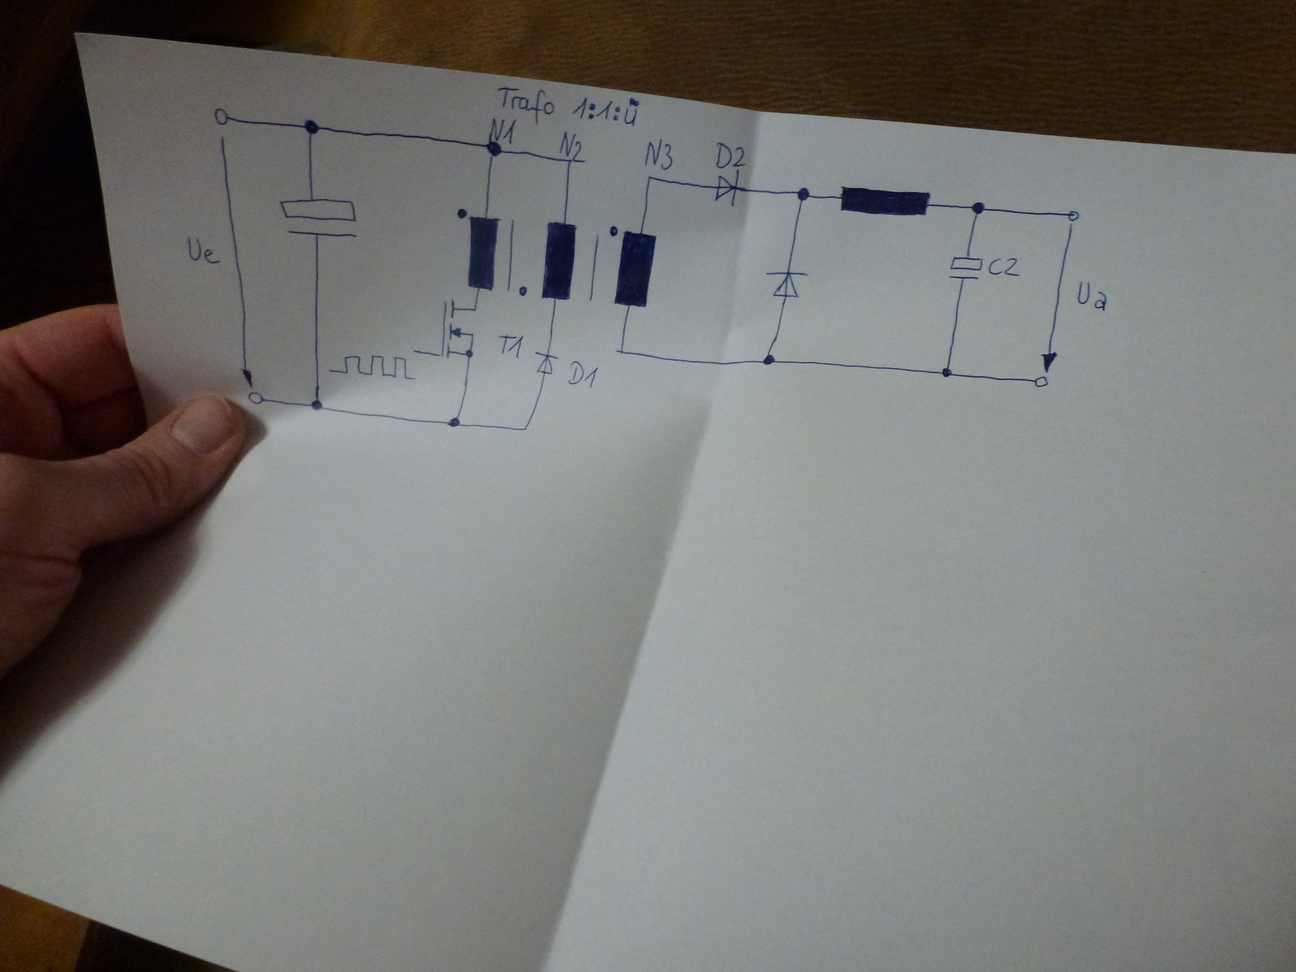capacitor.polarized: (277, 191, 362, 241), (948, 253, 983, 282)
diode: (765, 265, 806, 303), (710, 174, 741, 208), (532, 350, 560, 377)
inductor: (837, 182, 935, 218)
junction: (301, 116, 322, 138), (484, 137, 503, 158), (968, 198, 988, 217), (793, 184, 812, 203), (309, 396, 325, 414), (939, 364, 954, 380), (447, 414, 462, 429), (760, 352, 777, 367), (614, 344, 627, 358), (643, 173, 655, 185), (563, 157, 575, 168), (521, 422, 531, 433)
terminal: (211, 105, 233, 128), (245, 390, 265, 408), (1032, 374, 1051, 389), (1066, 208, 1081, 223), (409, 346, 422, 359)
text: (495, 86, 641, 127), (1074, 279, 1112, 313), (184, 235, 223, 268), (641, 137, 675, 172), (557, 128, 588, 165), (713, 141, 749, 172), (566, 361, 600, 388), (985, 256, 1021, 278), (498, 334, 526, 360), (489, 116, 513, 144)
transformer: (452, 206, 659, 312)
transistor: (436, 299, 480, 360)
